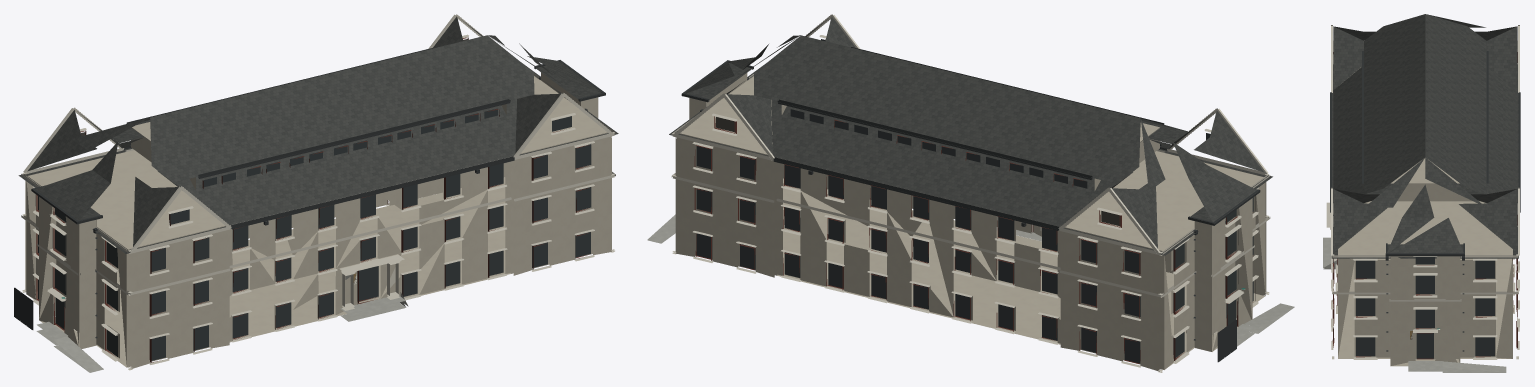
File: buildings-42-far.glb
3 views of the same model, side by side, from view 1: azimuth 30°, elevation 25°; view 2: azimuth 150°, elevation 25°; view 3: azimuth 270°, elevation 25° (orthographic). The views are drawn at different scales.
Visible parts, largest first — view 1: HB42_V13_WEB_HB42_V13_WarmMineralPlaster, HB42_V13_WEB_HB42_V13_WeatheredCharcoalTile, HB42_V13_WEB_HB42_V13_PaleStone, HB42_V13_WEB_HB42_V13_CharcoalMetal, HB42_V13_WEB_HB42_V13_GraniteSteps, HB42_V13_Component_W_06_F1_door; view 2: HB42_V13_WEB_HB42_V13_WarmMineralPlaster, HB42_V13_WEB_HB42_V13_WeatheredCharcoalTile, HB42_V13_WEB_HB42_V13_PaleStone, HB42_V13_WEB_HB42_V13_CharcoalMetal, HB42_V13_WEB_HB42_V13_GraniteSteps; view 3: HB42_V13_WEB_HB42_V13_WeatheredCharcoalTile, HB42_V13_WEB_HB42_V13_WarmMineralPlaster, HB42_V13_WEB_HB42_V13_PaleStone, HB42_V13_WEB_HB42_V13_CharcoalMetal, HB42_V13_WEB_HB42_V13_GraniteSteps, HB42_V13_Component_S_02_entry_door, HB42_V13_Component_S_01_F1_window, HB42_V13_Component_S_02_landing_upper_window, HB42_V13_Component_S_03_F1_window, HB42_V13_Component_S_02_landing_lower_window, HB42_V13_Component_S_01_F2_window, HB42_V13_Component_S_03_F2_window (+3 smaller).
Boxes of the visible parts, x1,y1,x2,y2 form: HB42_V13_WEB_HB42_V13_WarmMineralPlaster: (25, 72, 611, 368); HB42_V13_WEB_HB42_V13_WeatheredCharcoalTile: (18, 16, 618, 253); HB42_V13_WEB_HB42_V13_PaleStone: (21, 14, 615, 370); HB42_V13_WEB_HB42_V13_CharcoalMetal: (14, 46, 605, 338); HB42_V13_WEB_HB42_V13_GraniteSteps: (36, 292, 408, 372); HB42_V13_Component_W_06_F1_door: (357, 266, 378, 303); HB42_V13_WEB_HB42_V13_WarmMineralPlaster: (675, 73, 1266, 371); HB42_V13_WEB_HB42_V13_WeatheredCharcoalTile: (669, 16, 1272, 255); HB42_V13_WEB_HB42_V13_PaleStone: (671, 14, 1270, 372); HB42_V13_WEB_HB42_V13_CharcoalMetal: (681, 47, 1260, 362); HB42_V13_WEB_HB42_V13_GraniteSteps: (647, 214, 1294, 346); HB42_V13_WEB_HB42_V13_WeatheredCharcoalTile: (1331, 14, 1518, 258); HB42_V13_WEB_HB42_V13_WarmMineralPlaster: (1338, 67, 1512, 366); HB42_V13_WEB_HB42_V13_PaleStone: (1326, 25, 1519, 359); HB42_V13_WEB_HB42_V13_CharcoalMetal: (1330, 51, 1520, 351); HB42_V13_WEB_HB42_V13_GraniteSteps: (1323, 237, 1506, 372); HB42_V13_Component_S_02_entry_door: (1416, 333, 1433, 359); HB42_V13_Component_S_01_F1_window: (1475, 337, 1494, 357); HB42_V13_Component_S_02_landing_upper_window: (1415, 275, 1434, 295); HB42_V13_Component_S_03_F1_window: (1356, 337, 1375, 357); HB42_V13_Component_S_02_landing_lower_window: (1415, 309, 1434, 329); HB42_V13_Component_S_01_F2_window: (1475, 298, 1494, 317); HB42_V13_Component_S_03_F2_window: (1356, 298, 1375, 317).
Bounding box in the file's own units: 37.96 × 12.88 × 13.57.
Materials: 14 (4 with a texture image).
